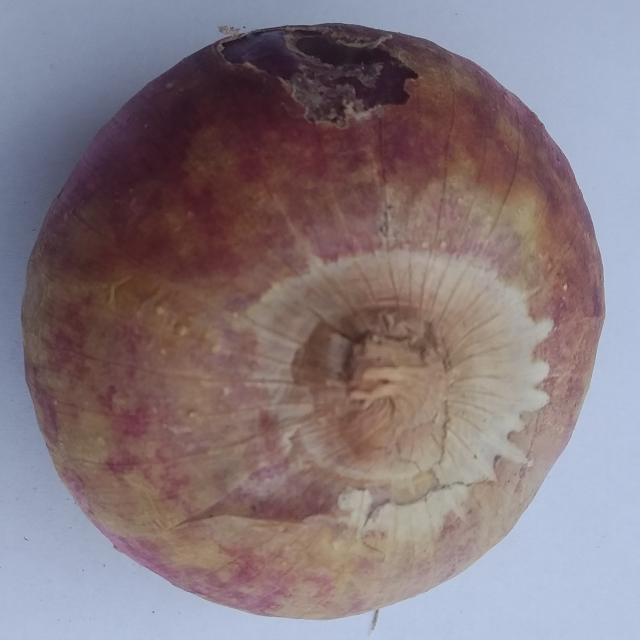onion: (21, 20, 609, 630)
